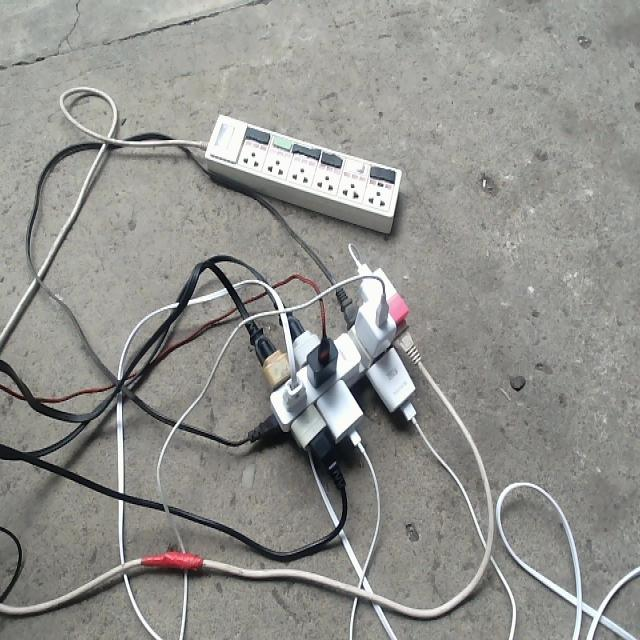-: (242, 254, 423, 486)
